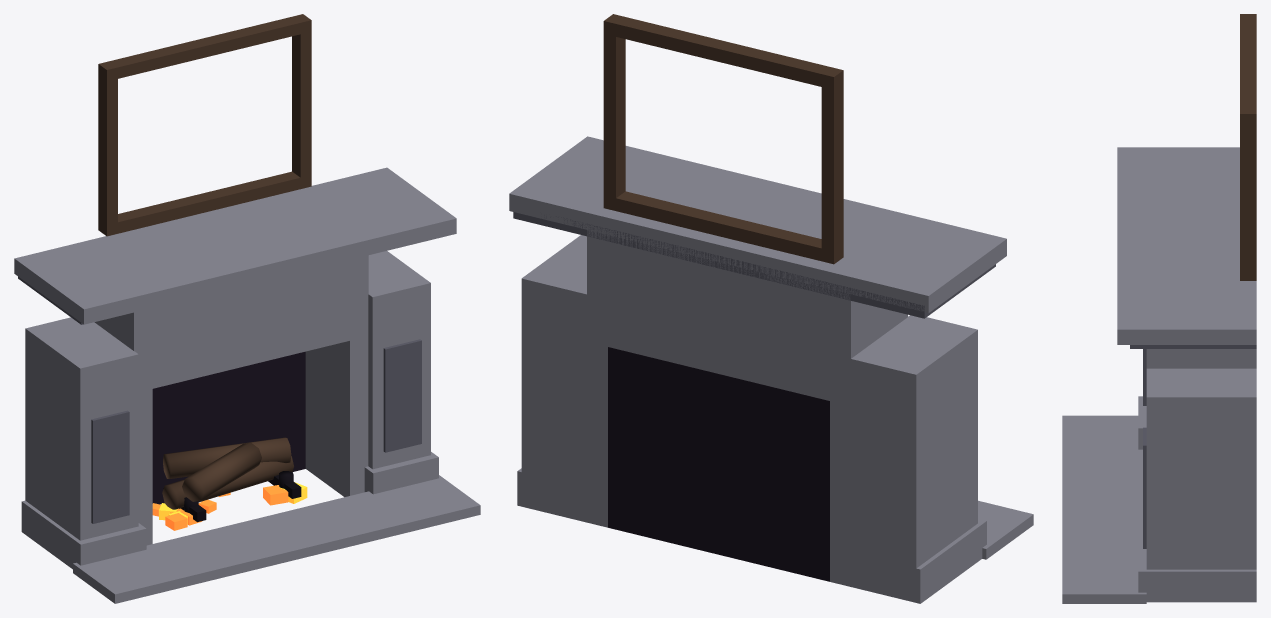
File: fireplace_valley.glb
3 views of the same model, side by side, from view 1: azimuth 30°, elevation 25°; view 2: azimuth 150°, elevation 25°; view 3: azimuth 270°, elevation 25° (orthographic). The views are drawn at different scales.
Parts seen in each view (by area): view 1: fireplace_valley; view 2: fireplace_valley; view 3: fireplace_valley.
Part boxes in pixels (bbox=[...]): fireplace_valley: bbox=[14, 14, 480, 603]; fireplace_valley: bbox=[509, 14, 1033, 603]; fireplace_valley: bbox=[1062, 14, 1256, 603].
Bounding box in the file's own units: 1.02 × 1.17 × 0.46.
